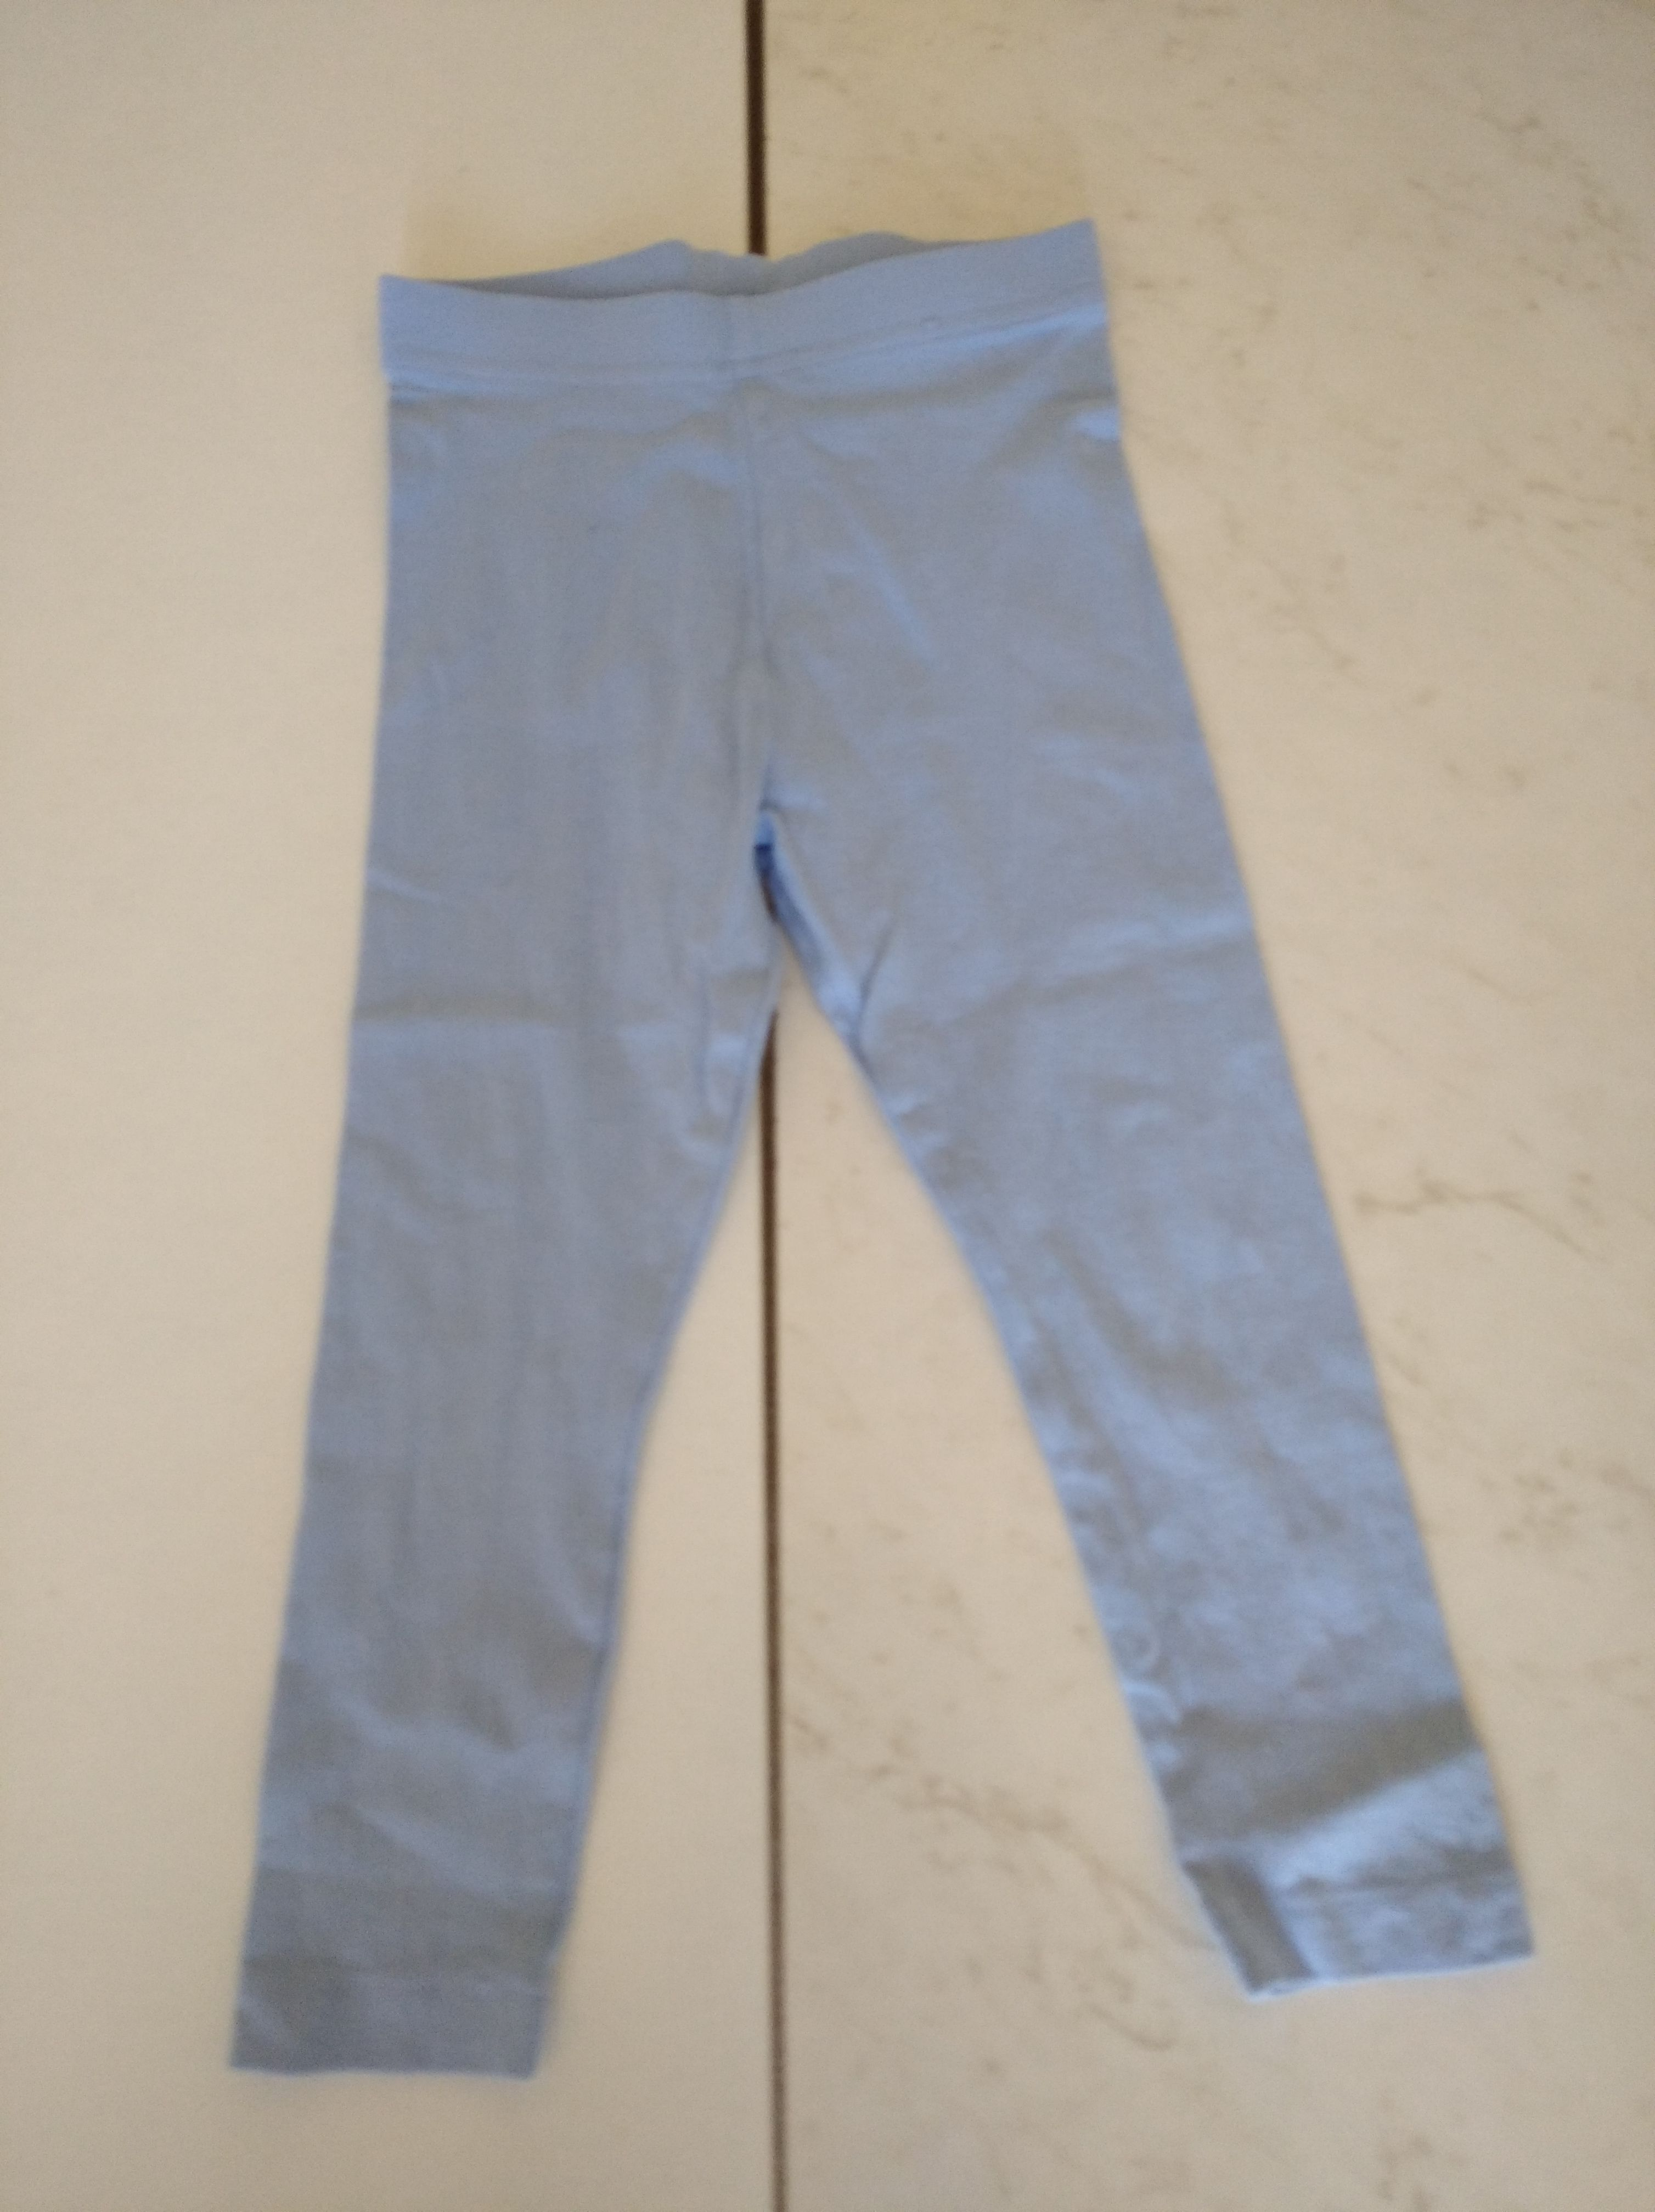clothes: (198, 240, 1535, 2056)
